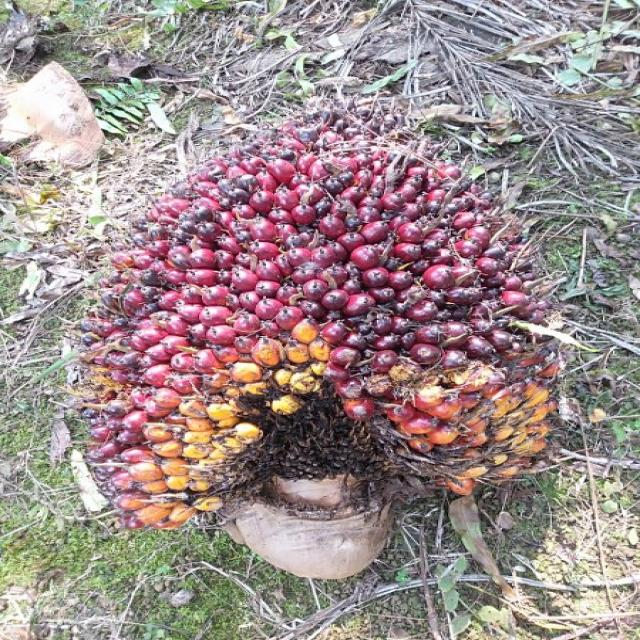fraksi 1: (24, 77, 630, 568)
